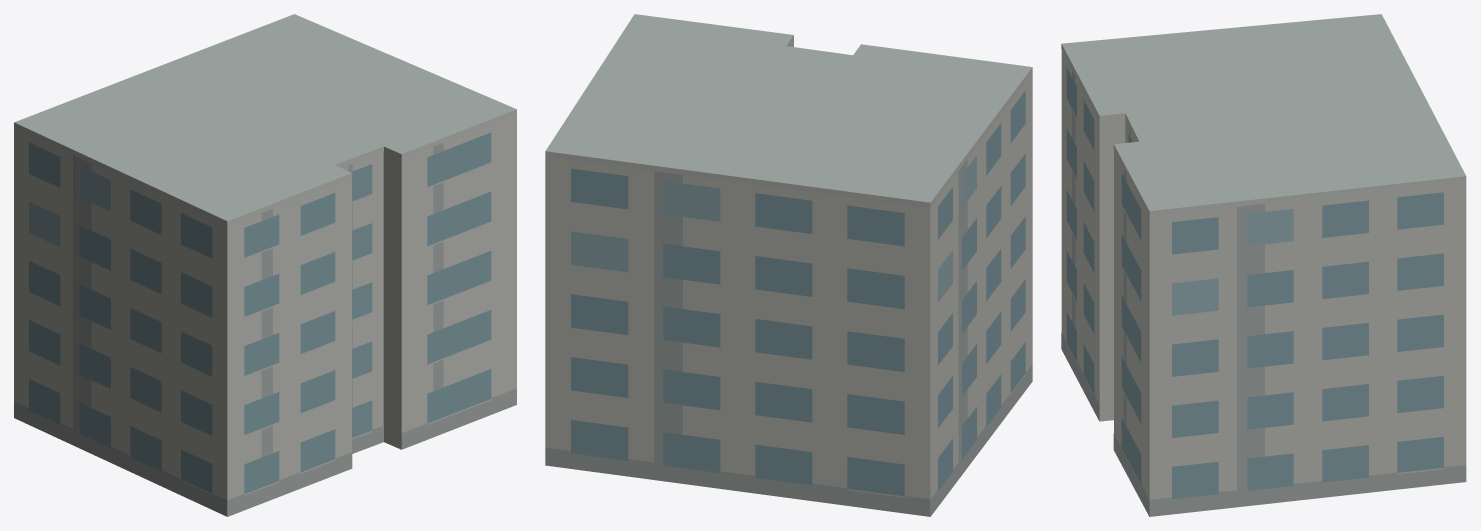
Rendered from survey-upis-32800485.glb.
3 views of the same model, side by side, from view 1: azimuth 30°, elevation 25°; view 2: azimuth 150°, elevation 25°; view 3: azimuth 270°, elevation 25° (orthographic). The views are drawn at different scales.
Visible parts, largest first — view 1: survey-upis-32800485.tmp; view 2: survey-upis-32800485.tmp; view 3: survey-upis-32800485.tmp.
Part boxes in pixels (x1,y1,x2,y2): survey-upis-32800485.tmp: (14, 14, 516, 516); survey-upis-32800485.tmp: (545, 14, 1032, 516); survey-upis-32800485.tmp: (1061, 14, 1466, 516).
Bounding box in the file's own units: 19.23 × 13.9 × 16.69.
